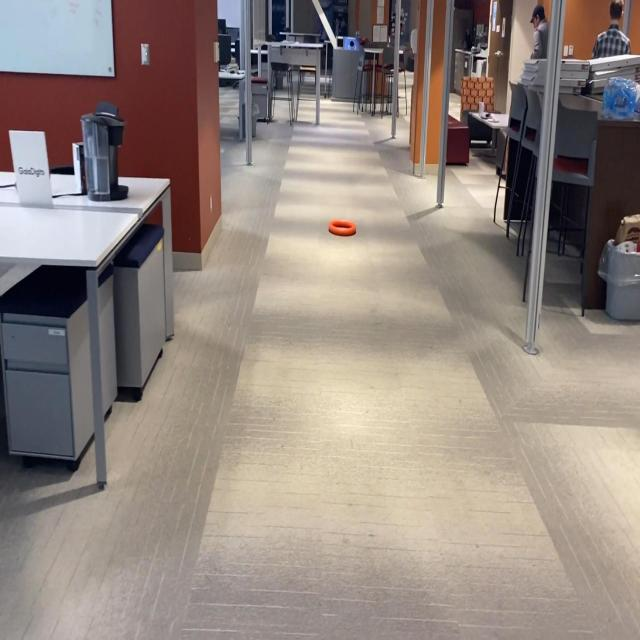note: (326, 215, 359, 239)
